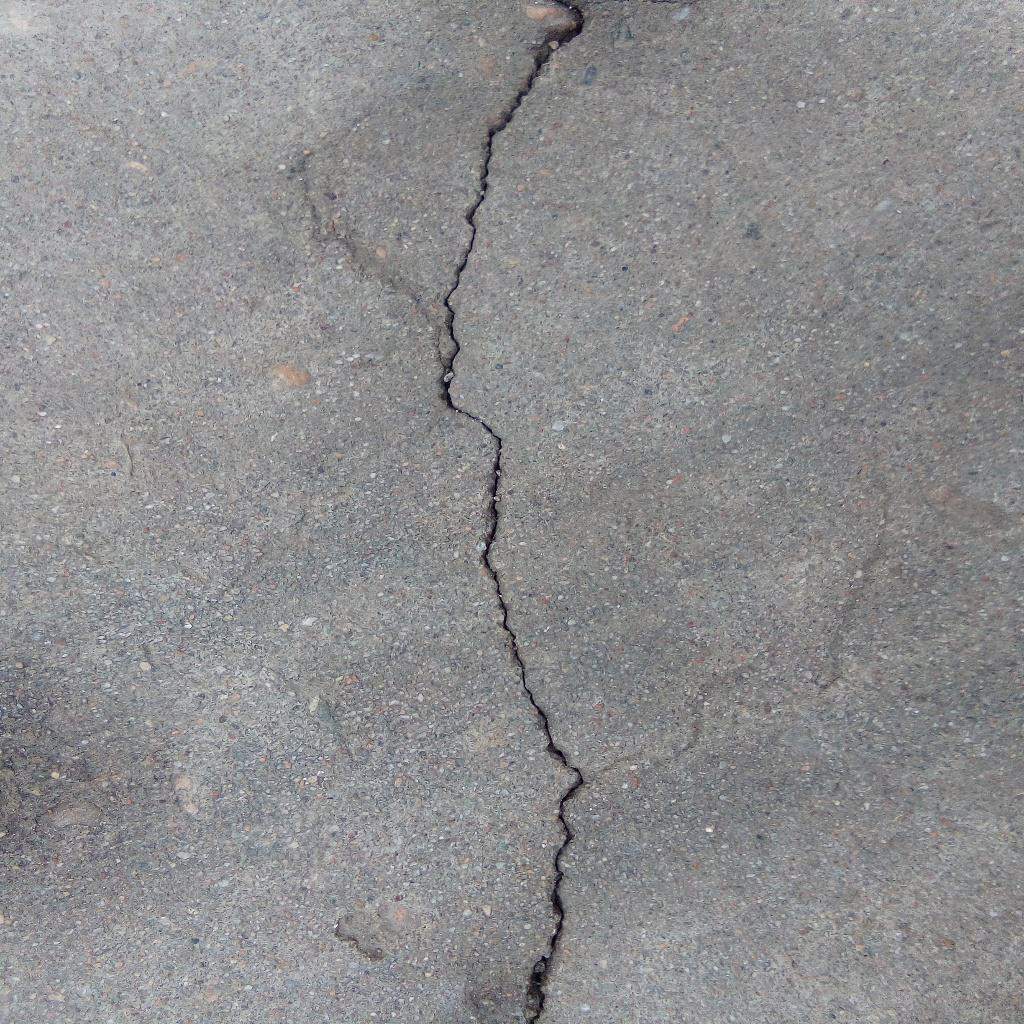Crack: (436, 1, 586, 1024)
